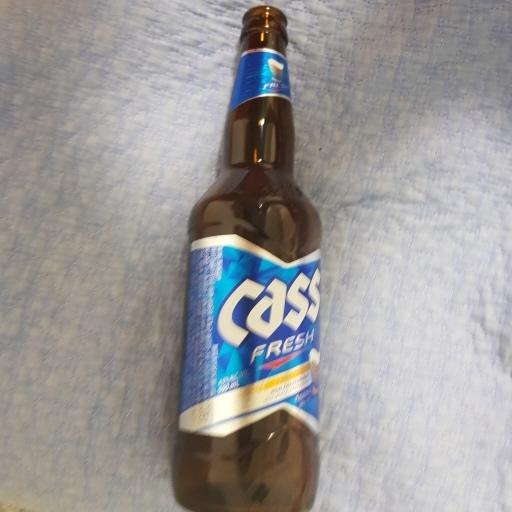Glass_1: (169, 6, 327, 512)
